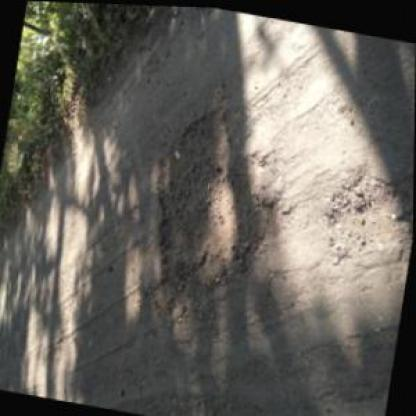pothole: (138, 94, 304, 330), (322, 160, 413, 271)
